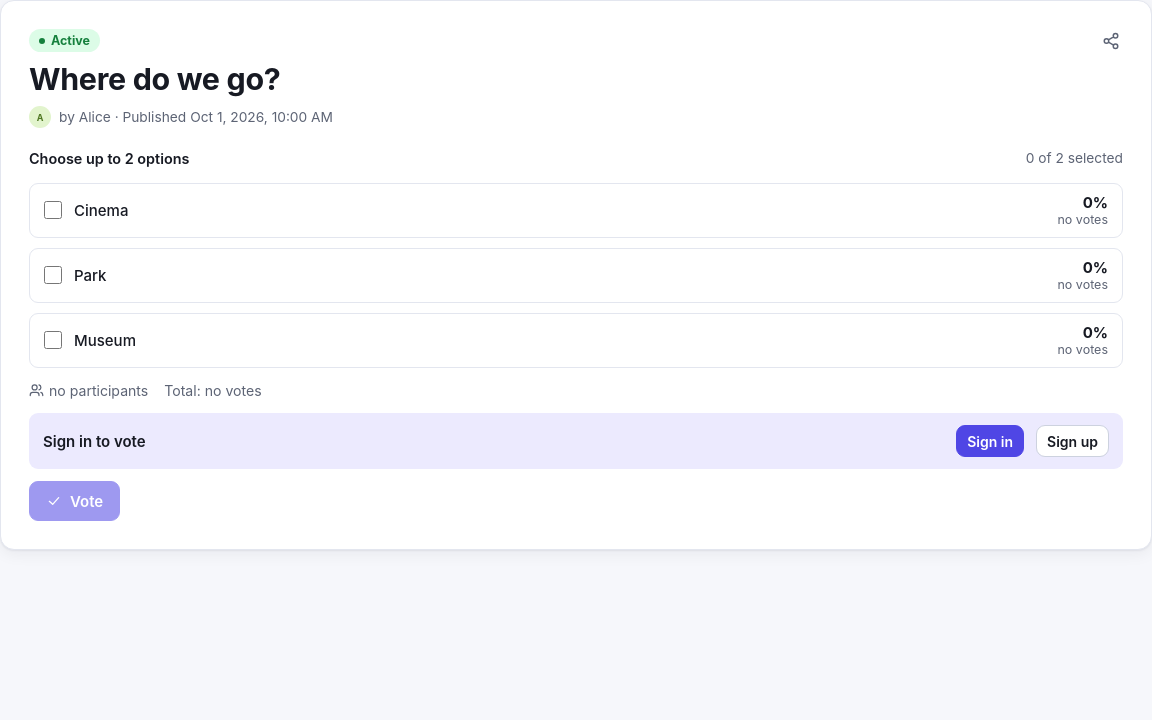
it: SurveyView voting › does not let the user pick more options than allowed
The width and height of the screenshot is (1152, 720).
Step 1. Click the checkbox labelled "Cinema 0% no votes" → (53, 210), box [44,201,62,219]
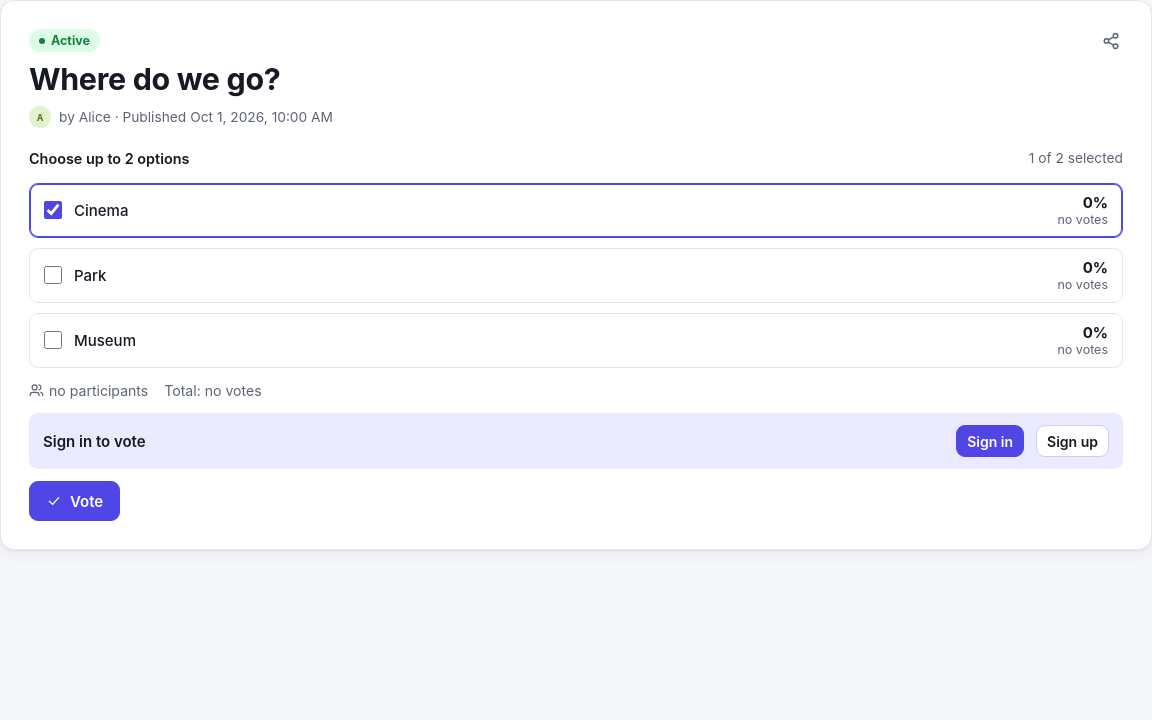
Step 2. Click the checkbox labelled "Park 0% no votes" → (53, 275), box [44,266,62,284]
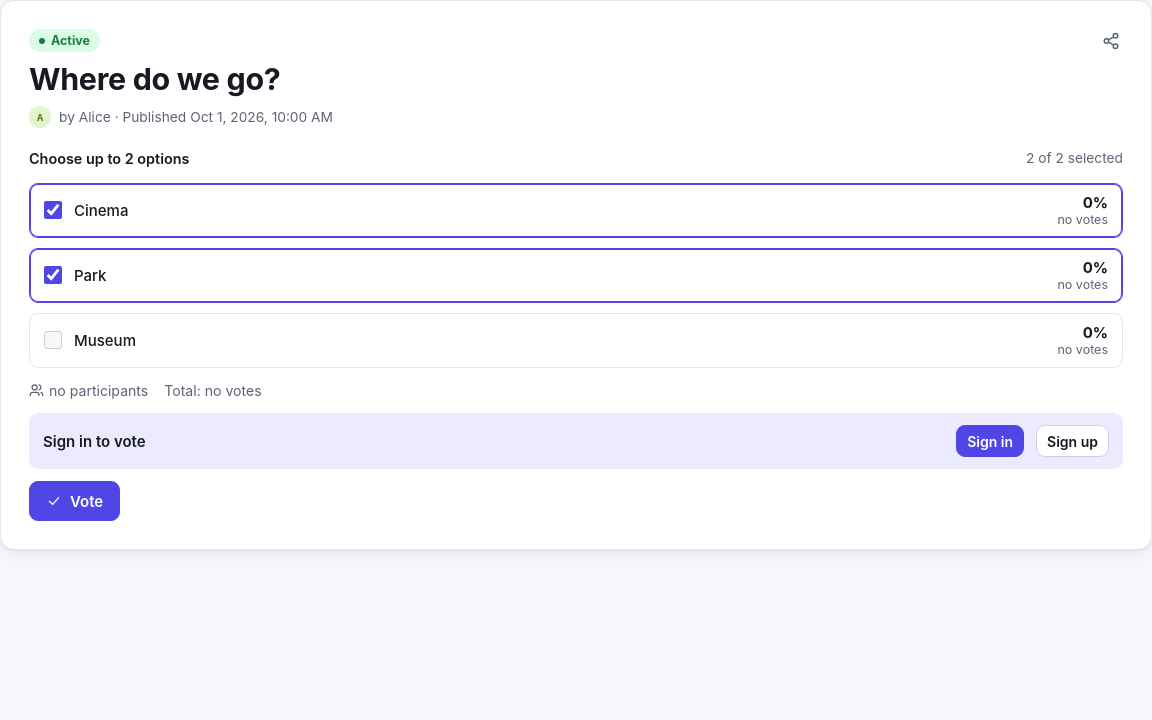
Result: the checkbox labelled "Museum 0% no votes" is disabled at [44,331,62,349]
Result: the text "2 of 2 selected" is shown at [1026,148,1123,171]
